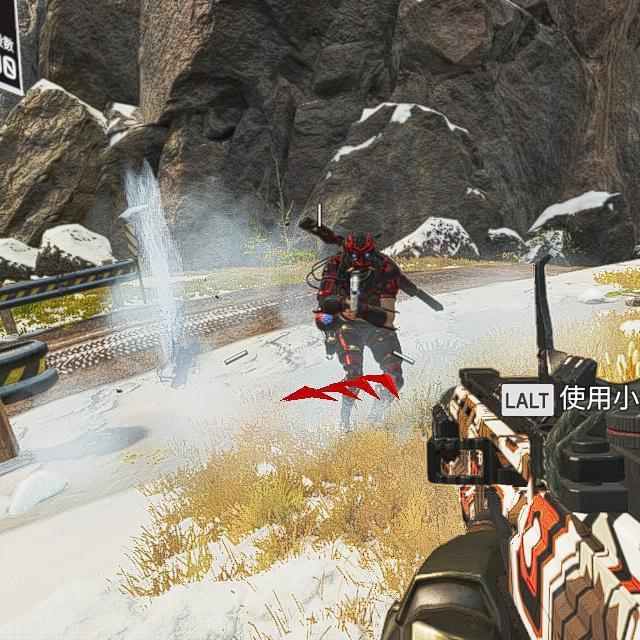avatar: (311, 226, 407, 431)
